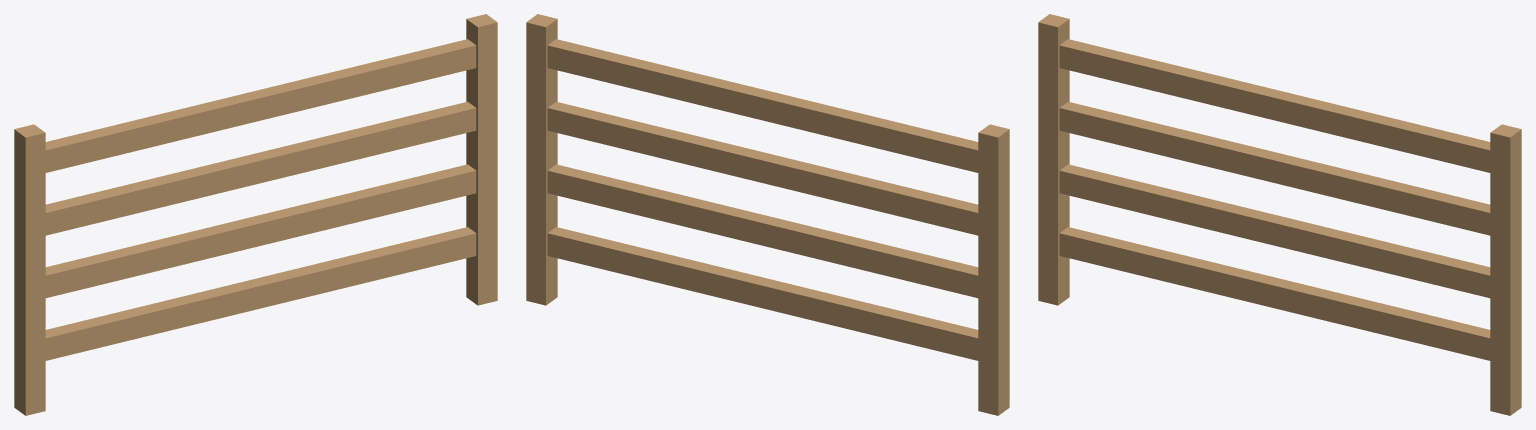
Rendered from sheep-hurdle.glb.
3 renders of one model, left to right at view 1: azimuth 30°, elevation 25°; view 2: azimuth 150°, elevation 25°; view 3: azimuth 330°, elevation 25°, orthographic.
Parts seen in each view (by area): view 1: sheep-hurdle; view 2: sheep-hurdle; view 3: sheep-hurdle.
Boxes of the visible parts, <box> form: sheep-hurdle: <box>14,14,497,415</box>; sheep-hurdle: <box>526,14,1009,415</box>; sheep-hurdle: <box>1038,14,1521,415</box>.
Bounding box in the file's own units: 1.42 × 0.8001 × 0.06.
